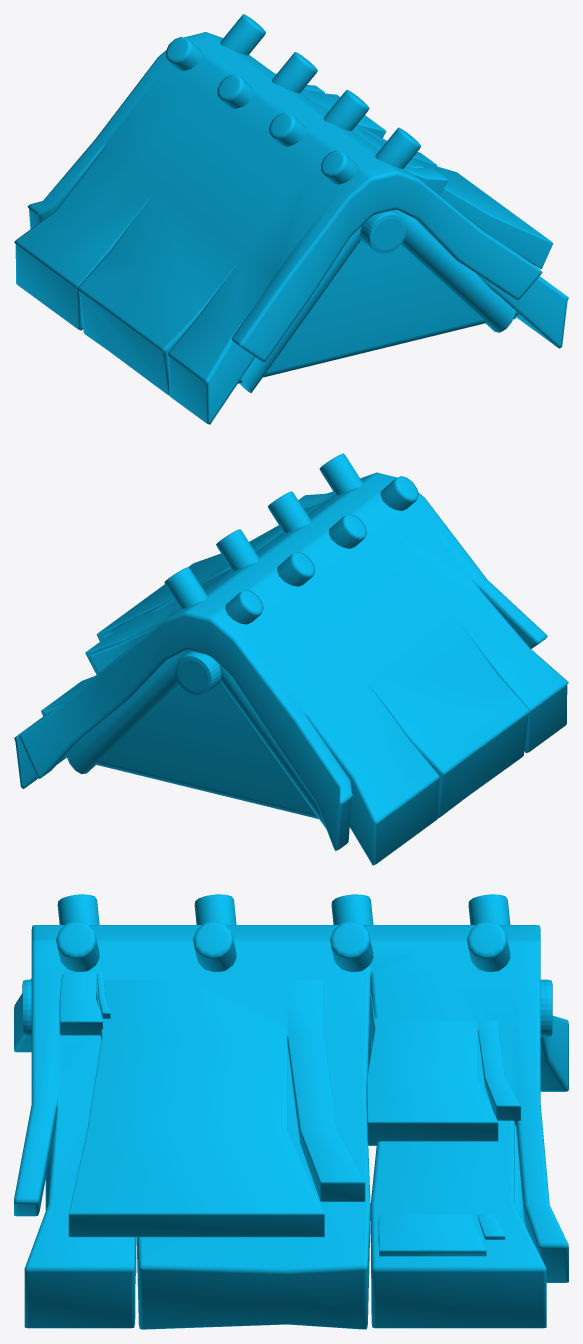
Rendered from SM_Clay_Roof_01.fbx.
3 views of the same model, one above another, from view 1: azimuth 30°, elevation 25°; view 2: azimuth 150°, elevation 25°; view 3: azimuth 270°, elevation 25° (orthographic). The views are drawn at different scales.
Parts seen in each view (by area): view 1: SM_Clay_Roof_01; view 2: SM_Clay_Roof_01; view 3: SM_Clay_Roof_01.
Boxes of the visible parts, x1,y1,x2,y2 form: SM_Clay_Roof_01: (14,14,568,424); SM_Clay_Roof_01: (14,453,568,865); SM_Clay_Roof_01: (14,894,568,1329).
Size of the model in its own units: 1.02 by 0.6412 by 1.01.
